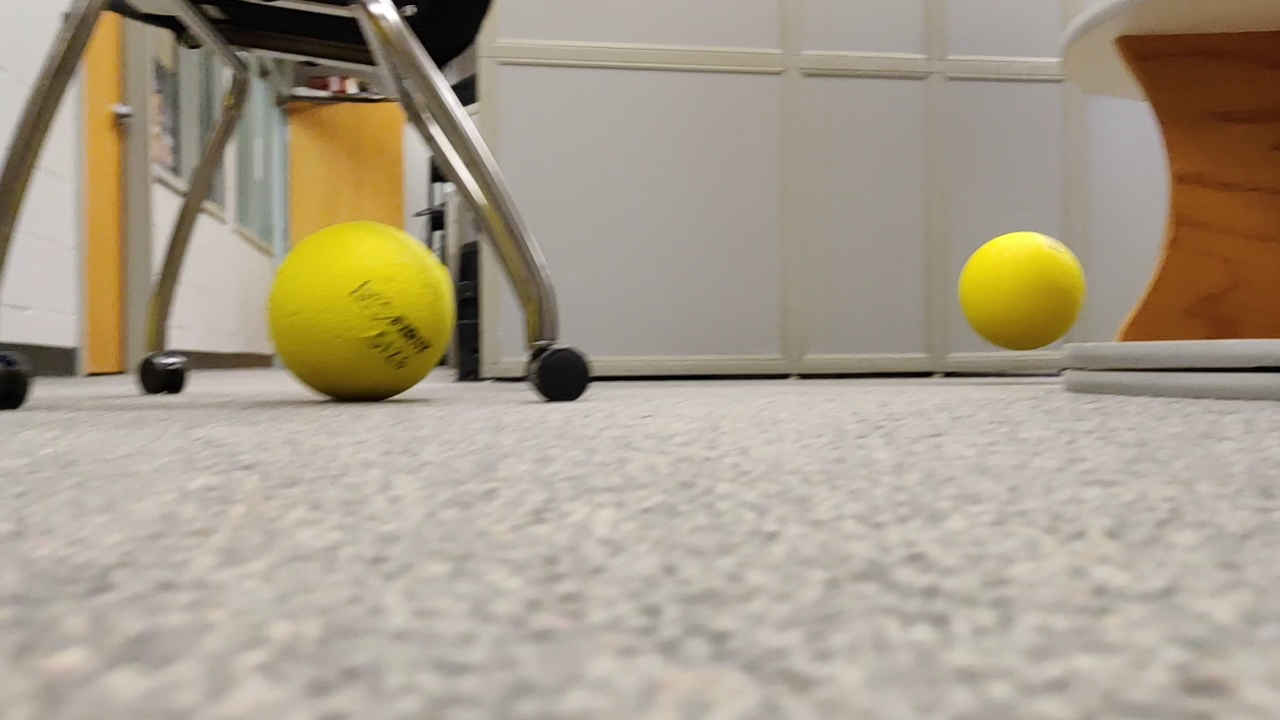Ball: (274, 222, 447, 398), (958, 230, 1088, 355)
